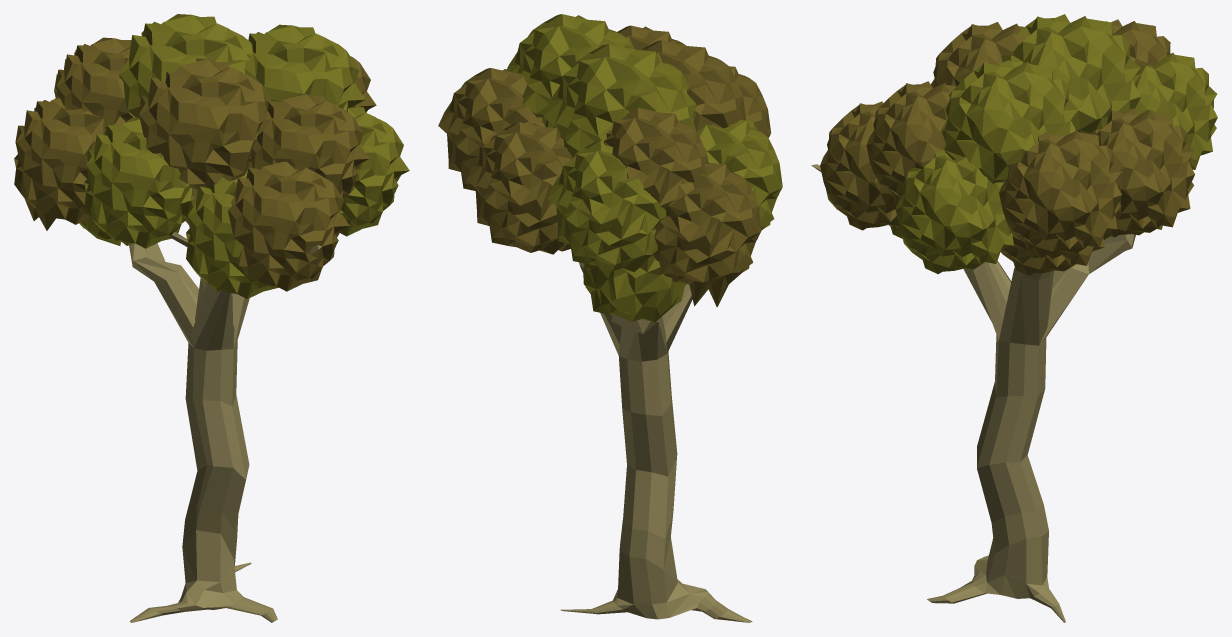
The model's file is Tall_coloured.fbx.
3 renders of one model, left to right at view 1: azimuth 30°, elevation 25°; view 2: azimuth 150°, elevation 25°; view 3: azimuth 270°, elevation 25°, orthographic. The views are drawn at different scales.
Parts seen in each view (by area): view 1: LowPoly Tree .021; view 2: LowPoly Tree .021; view 3: LowPoly Tree .021.
Boxes of the visible parts, x1,y1,x2,y2 form: LowPoly Tree .021: [14, 14, 409, 622]; LowPoly Tree .021: [438, 14, 782, 622]; LowPoly Tree .021: [811, 14, 1217, 622].
Bounding box in the file's own units: 227 × 373 × 241.
